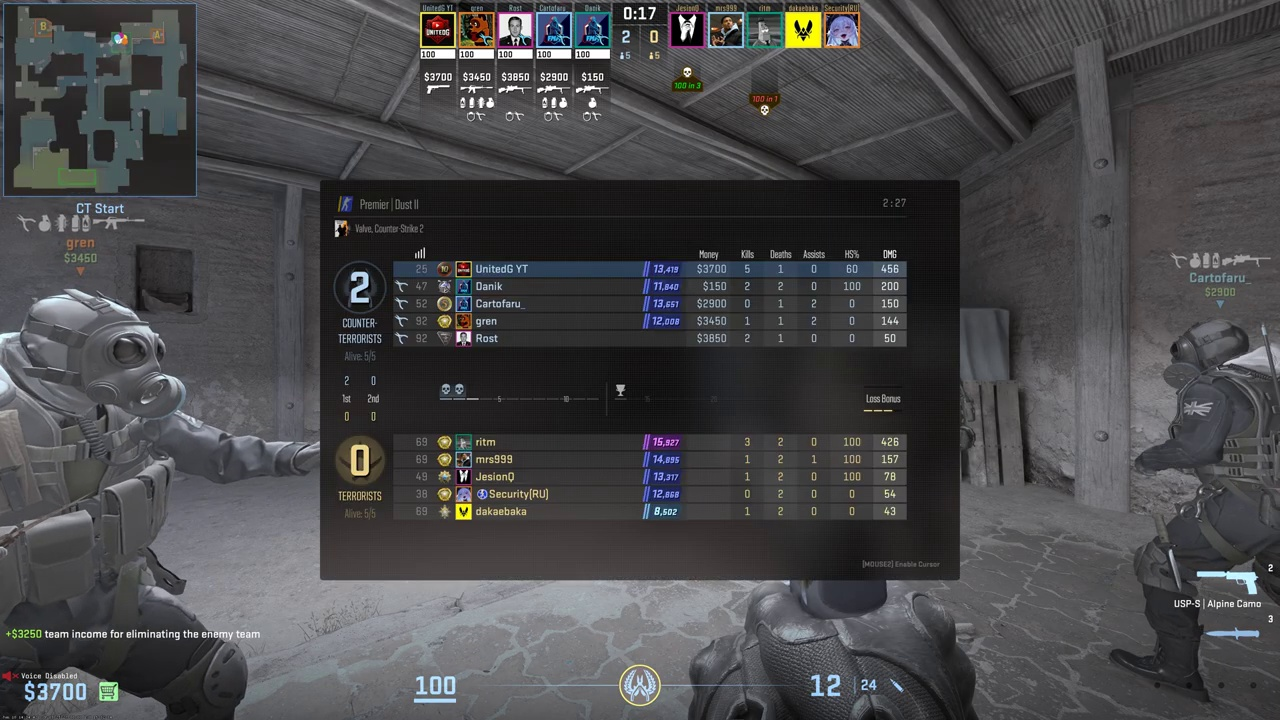CT: (0, 290, 249, 720), (1130, 318, 1280, 690)
